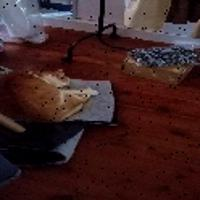asleep: (0, 69, 98, 122)
